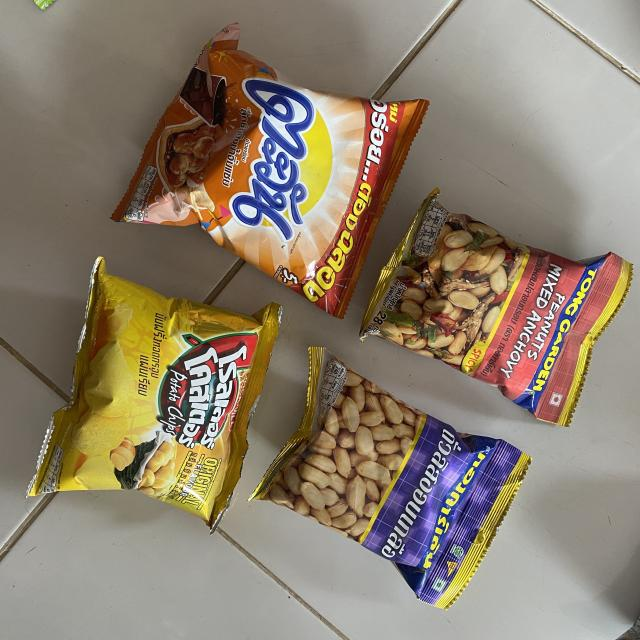plastik: (111, 24, 429, 318), (251, 348, 530, 609), (28, 258, 281, 532), (360, 190, 632, 425)
